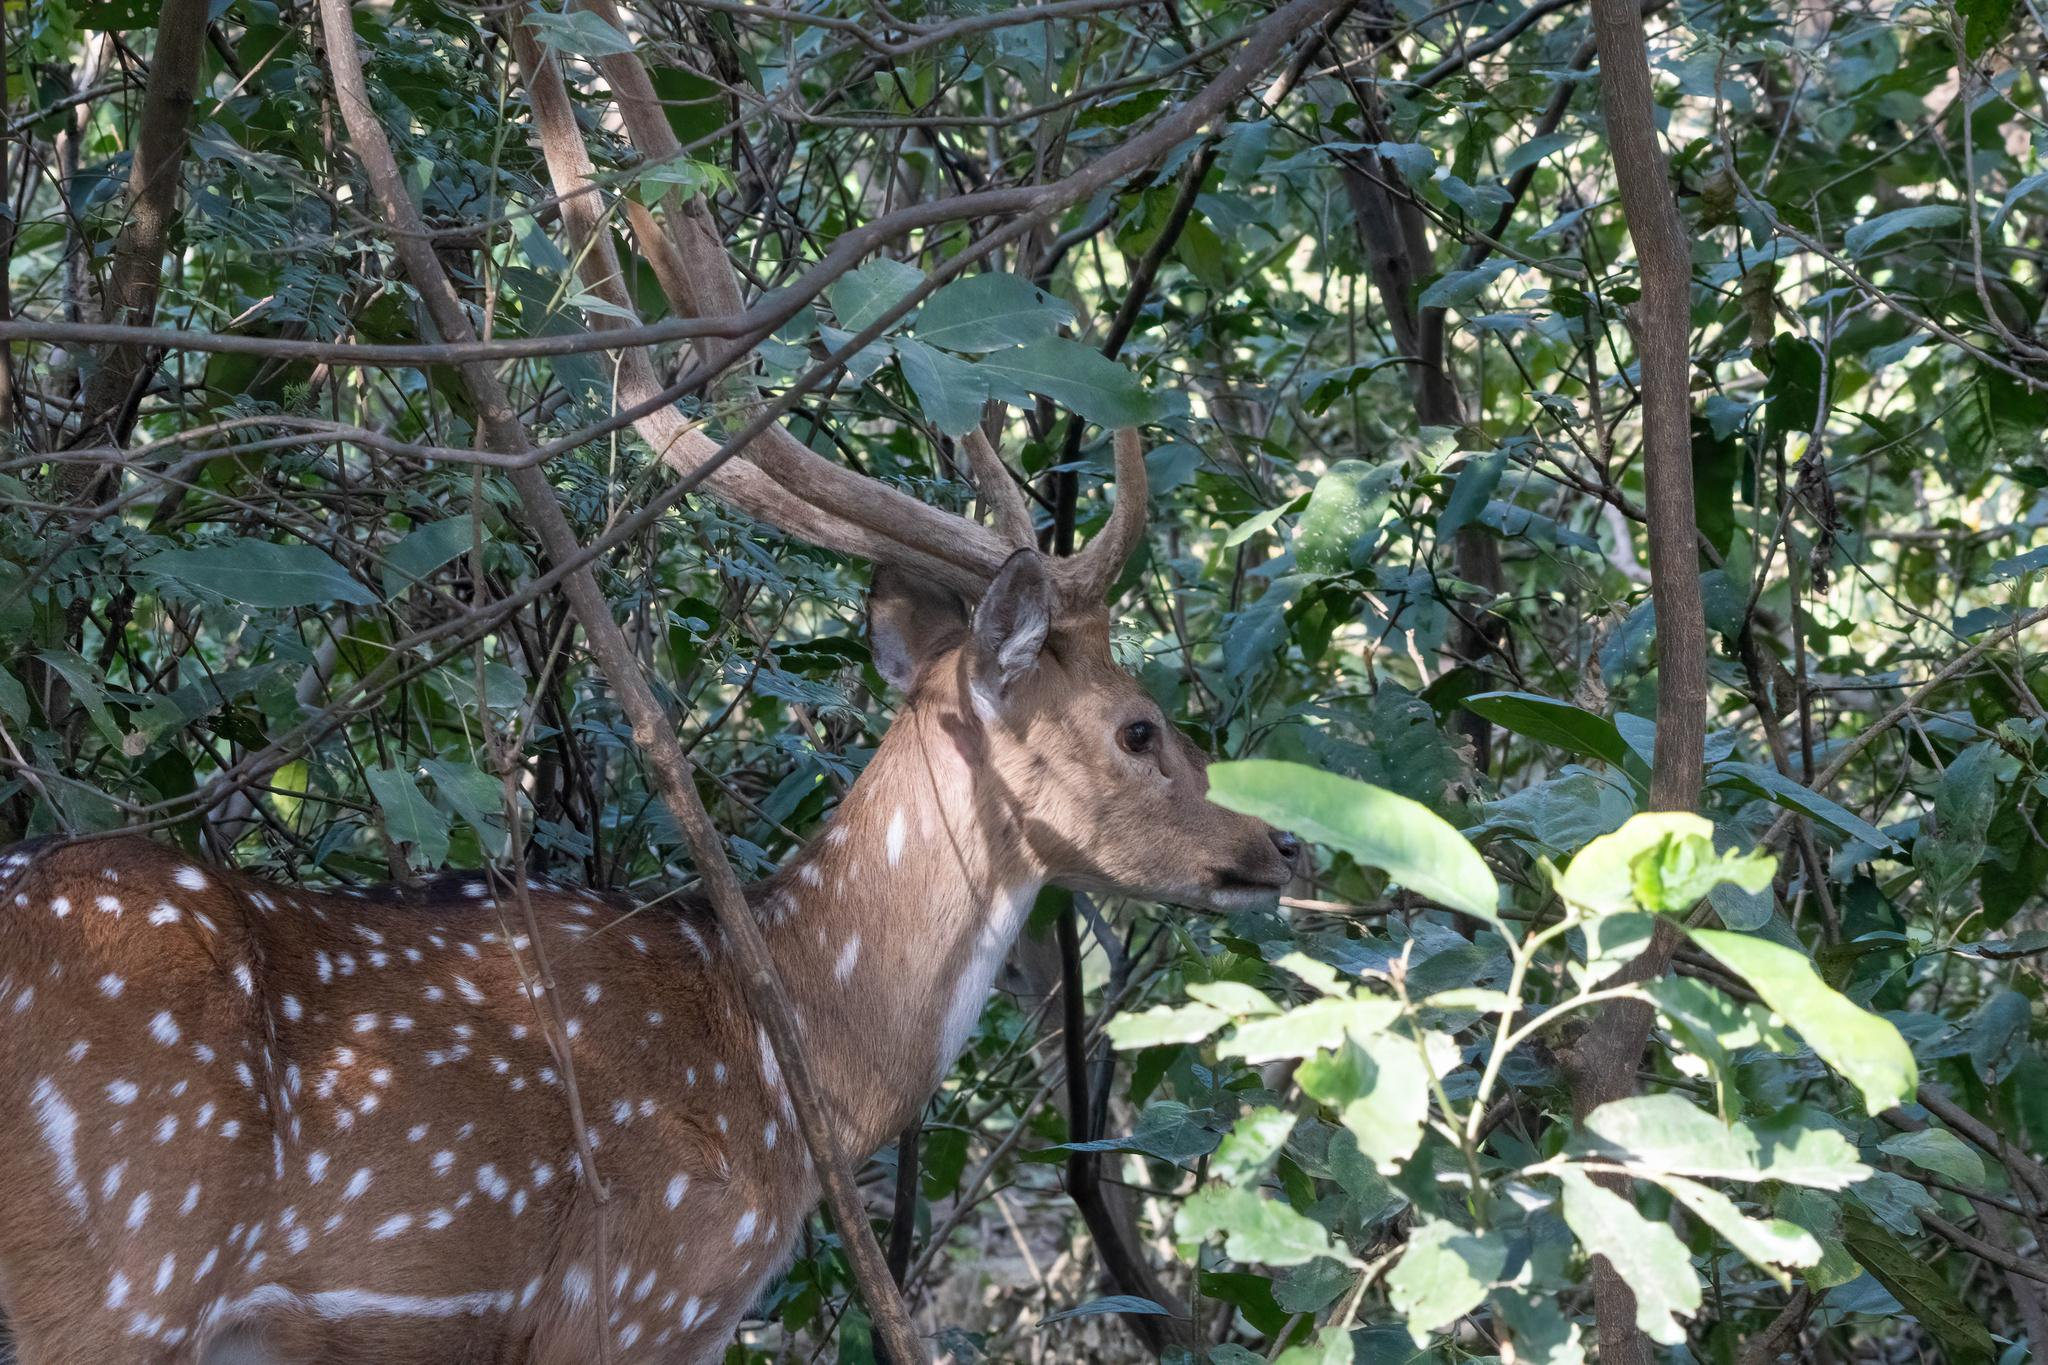Deer: (0, 430, 1305, 1363)
